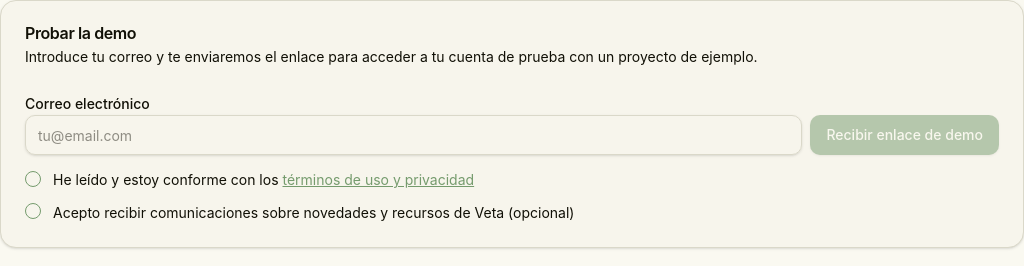
Test: DemoRequestForm acceptTerms › keeps submit disabled until terms checkbox is checked
Expected: the button "Recibir enlace de demo" is disabled, [810,115,999,155]
Type "user@example.com" into the field labelled "Correo electrónico" at (414, 135), box [25,115,802,155]
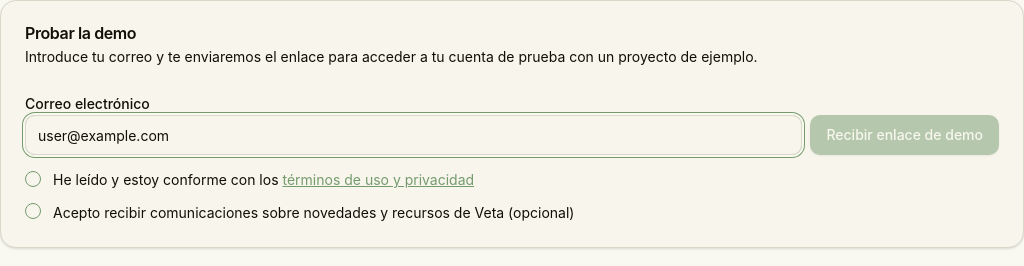
Expected: the button "Recibir enlace de demo" is disabled, [810,115,999,155]
Click the checkbox named "He leído y estoy conforme con los" next to "He leído y estoy conforme con los" at (33, 179), box [25,171,41,187]
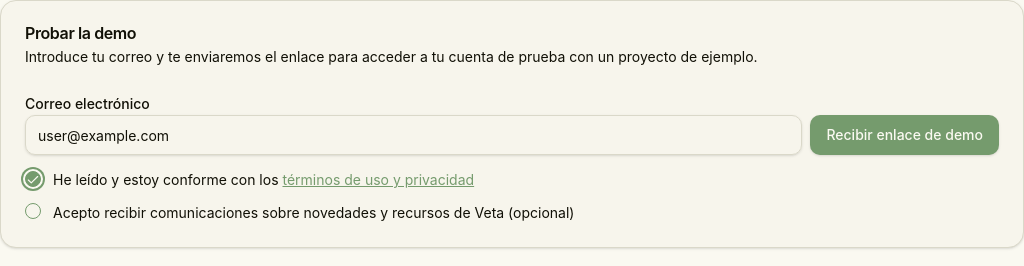
Now the button "Recibir enlace de demo" is enabled, box [810,115,999,155]
